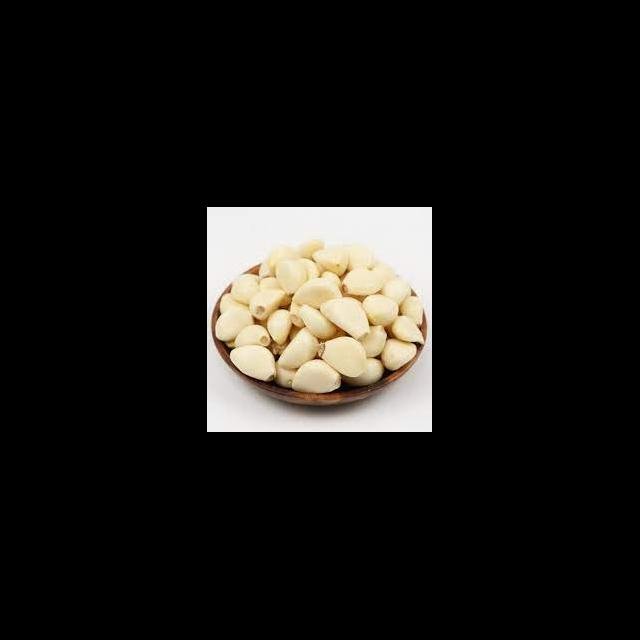garlic: (248, 288, 370, 374), (269, 258, 372, 342)
